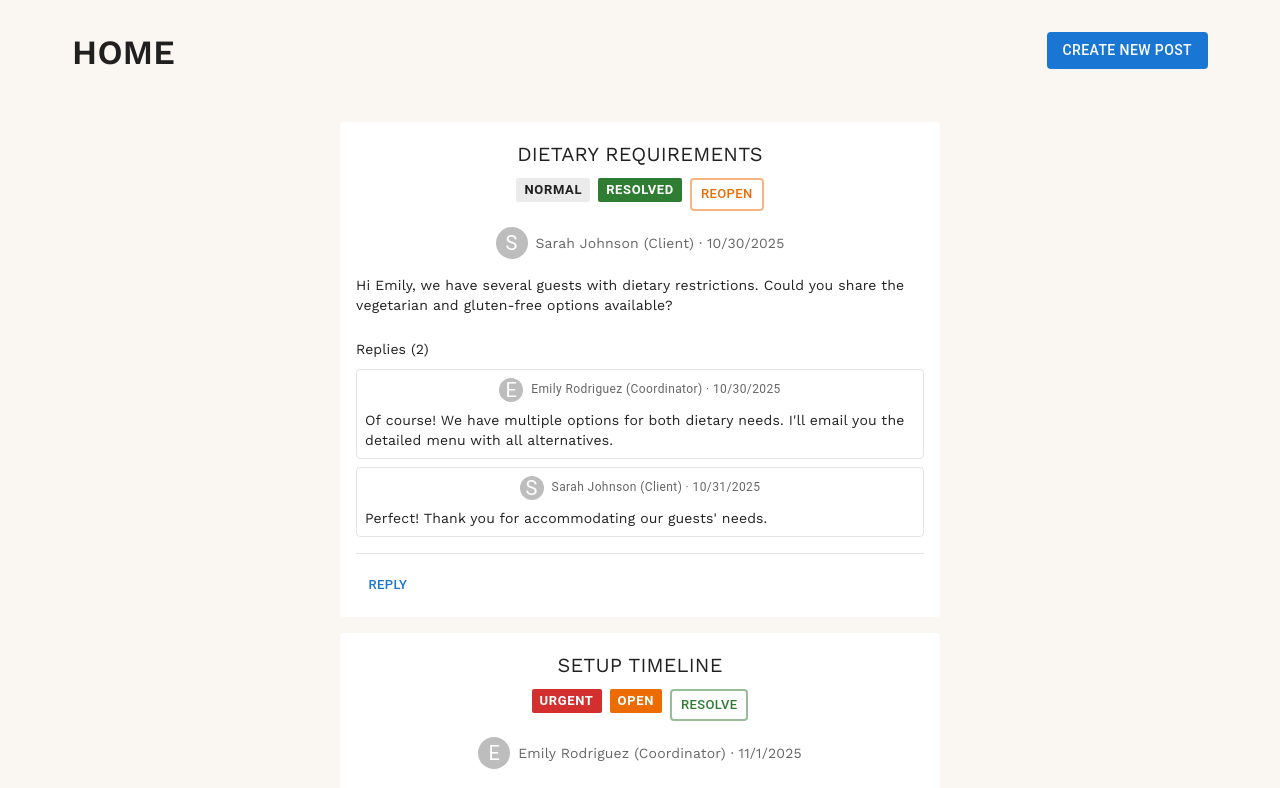
Test: Discussions Page › Create Post Functionality › closes dialog when cancel button is clicked
This screenshot has width=1280, height=788.
Click the button "Create New Post": {"x": 1127, "y": 50} left=1046, top=32, right=1208, bottom=68
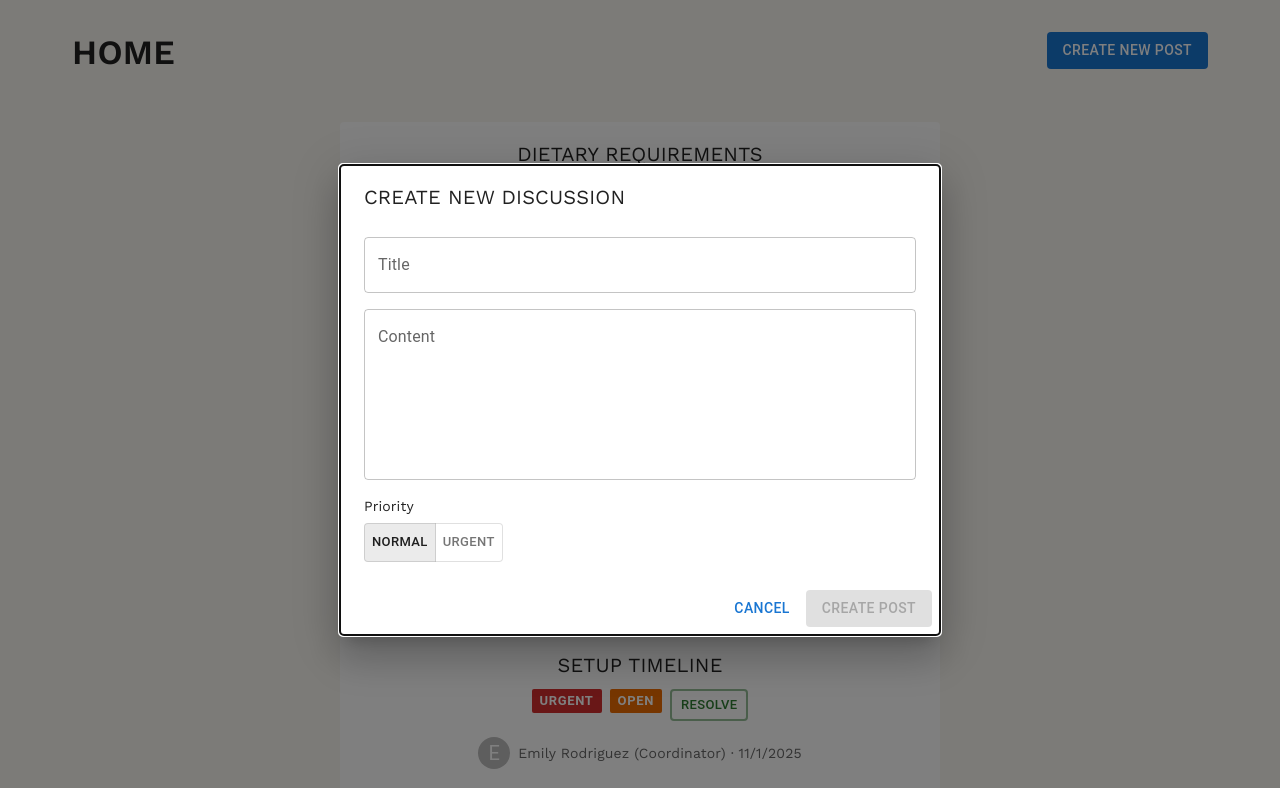
Click the button "Cancel": {"x": 762, "y": 608} left=726, top=590, right=798, bottom=626
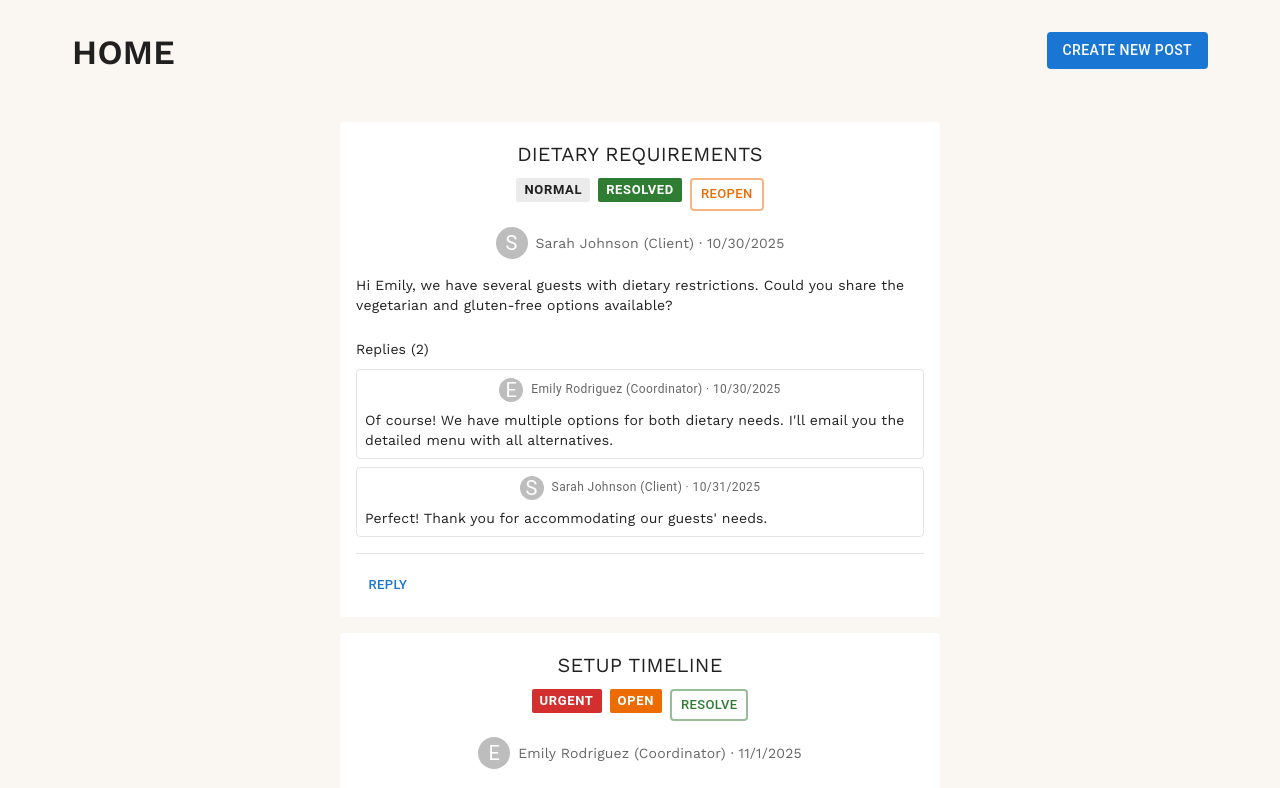
Expected: the dialog is gone
